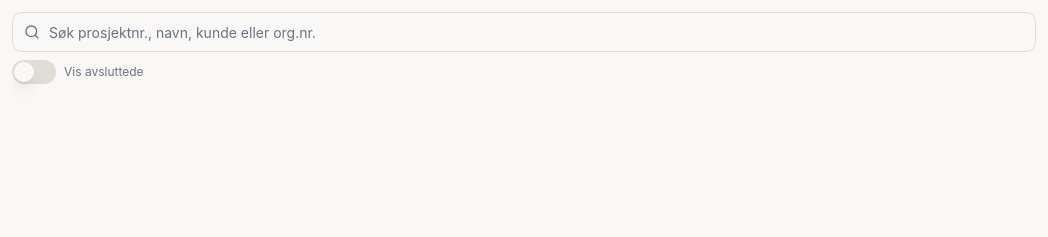
Scenario: Project picker user selections › Tripletex-only selection uses canonical preview and import before choosing parent
Later steps or results of the test are not shown.
Type "60521" into the field with placeholder "Søk prosjektnr., navn, kunde eller org.nr." at (524, 32), box [12, 12, 1036, 52]
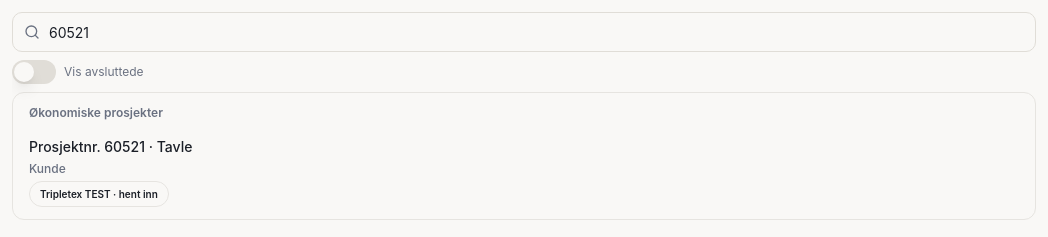
Click the button "Prosjektnr. 60521 · Tavle Kunde Tripletex TEST · hent inn" at (111, 146), box [17, 129, 1031, 215]
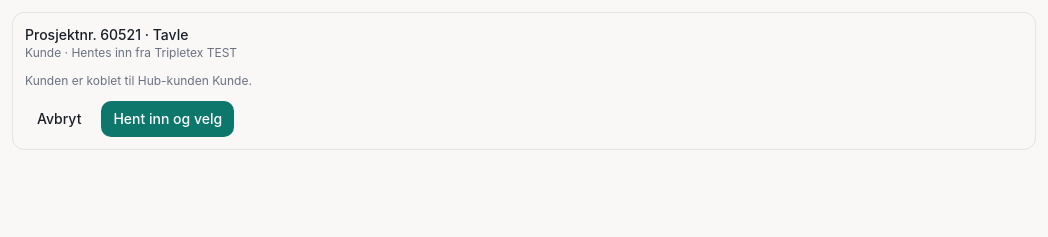
expect the button "Hent inn og velg" is enabled: met, box [101, 101, 234, 137]
